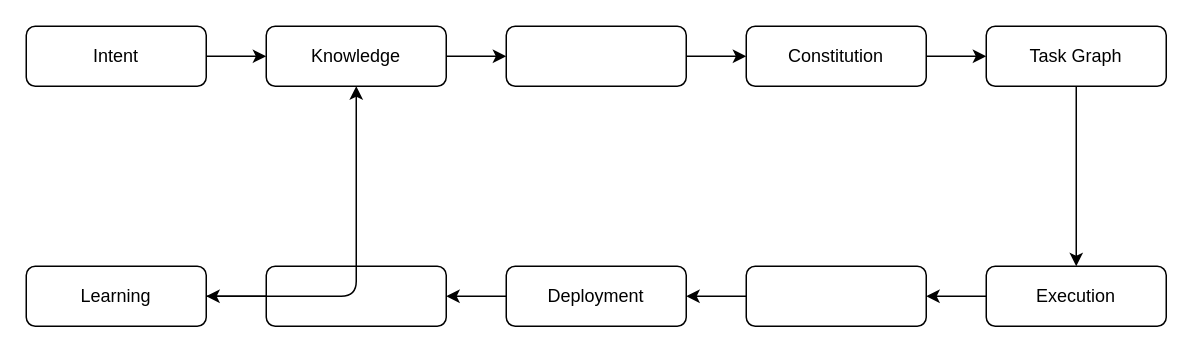
Some shapes in this 1193 by 353 pixel diagram are drawn without their labels. The centre of each missing label's shape, as x and y in pixels:
"Evaluation" belongs at pixel 835 295.
"Specification" belongs at pixel 595 55.
"Telemetry" belongs at pixel 355 295.
